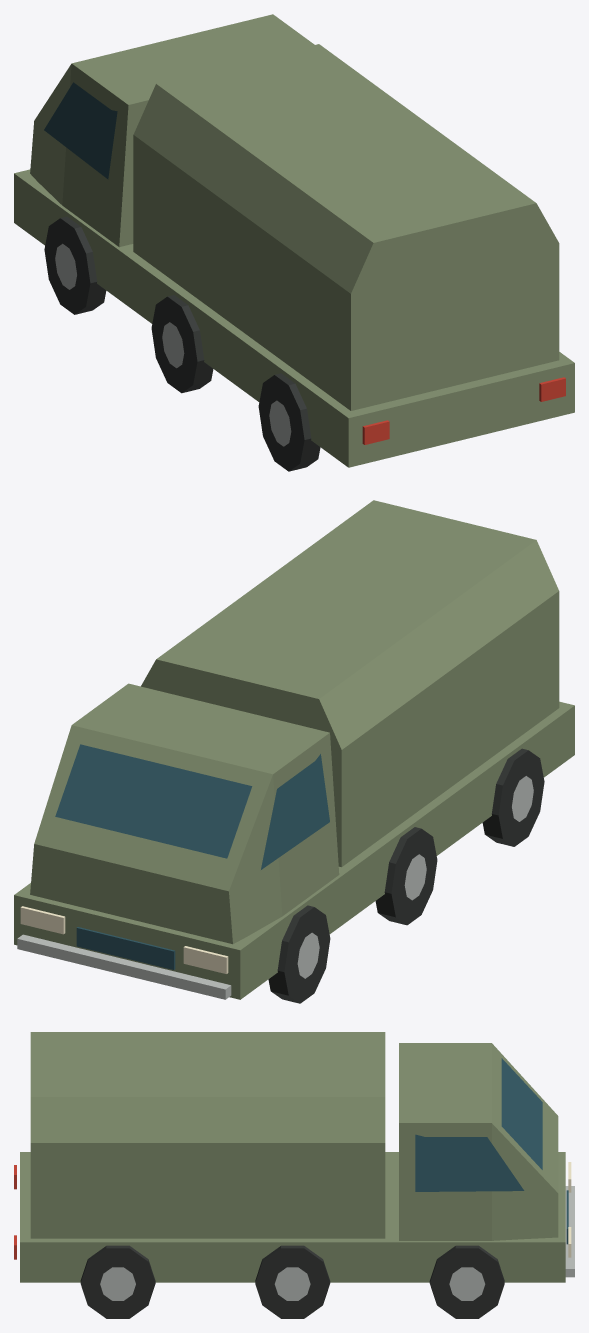
The model's file is military.glb.
3 views of the same model, one above another, from view 1: azimuth 30°, elevation 25°; view 2: azimuth 150°, elevation 25°; view 3: azimuth 270°, elevation 25° (orthographic). The views are drawn at different scales.
Visible parts, largest first — view 1: MilitaryModel traffic_olive, MilitaryModel traffic_rubber, MilitaryModel traffic_glass, MilitaryModel traffic_metal, MilitaryModel traffic_red; view 2: MilitaryModel traffic_olive, MilitaryModel traffic_glass, MilitaryModel traffic_rubber, MilitaryModel traffic_metal, MilitaryModel traffic_light; view 3: MilitaryModel traffic_olive, MilitaryModel traffic_rubber, MilitaryModel traffic_glass, MilitaryModel traffic_metal.
Boxes of the visible parts, x1,y1,x2,y2 form: MilitaryModel traffic_olive: [14, 14, 574, 467]; MilitaryModel traffic_rubber: [44, 216, 320, 471]; MilitaryModel traffic_glass: [44, 82, 117, 179]; MilitaryModel traffic_metal: [55, 243, 291, 446]; MilitaryModel traffic_red: [362, 377, 565, 444]; MilitaryModel traffic_olive: [14, 500, 574, 999]; MilitaryModel traffic_glass: [55, 744, 329, 969]; MilitaryModel traffic_rubber: [268, 748, 544, 1003]; MilitaryModel traffic_metal: [17, 776, 533, 999]; MilitaryModel traffic_light: [20, 906, 228, 973]; MilitaryModel traffic_olive: [20, 1032, 565, 1282]; MilitaryModel traffic_rubber: [80, 1245, 504, 1318]; MilitaryModel traffic_glass: [415, 1058, 568, 1244]; MilitaryModel traffic_metal: [100, 1186, 574, 1300].
Size of the model in its own units: 2.68 by 2.67 by 6.58.
